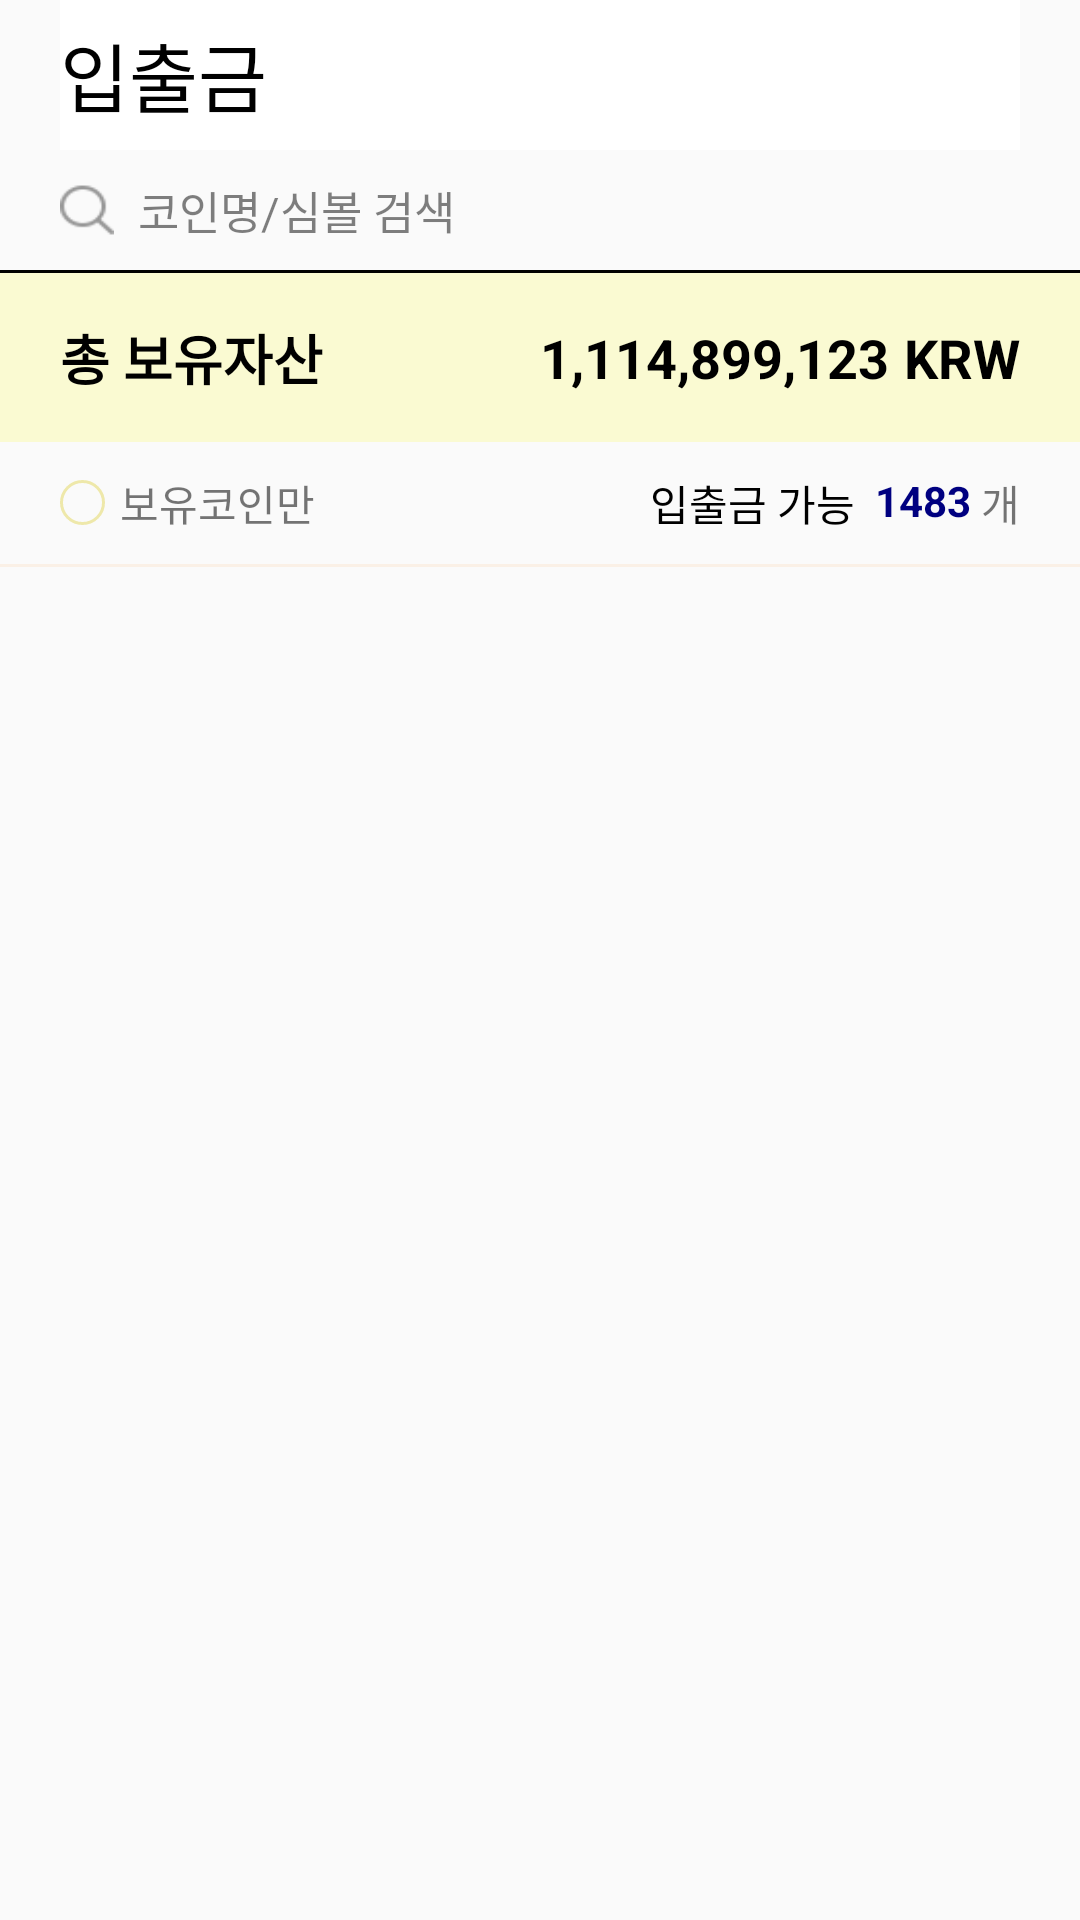

Icons on this 1080 x 1920 Android screen, each with the point to tap as point (x, y):
search: point (87, 210)
